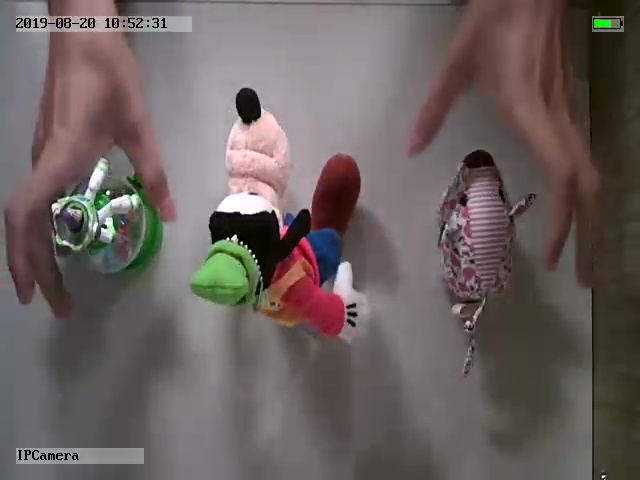buzz: (48, 154, 165, 277)
goofy: (189, 86, 370, 344)
pig: (435, 150, 535, 377)
